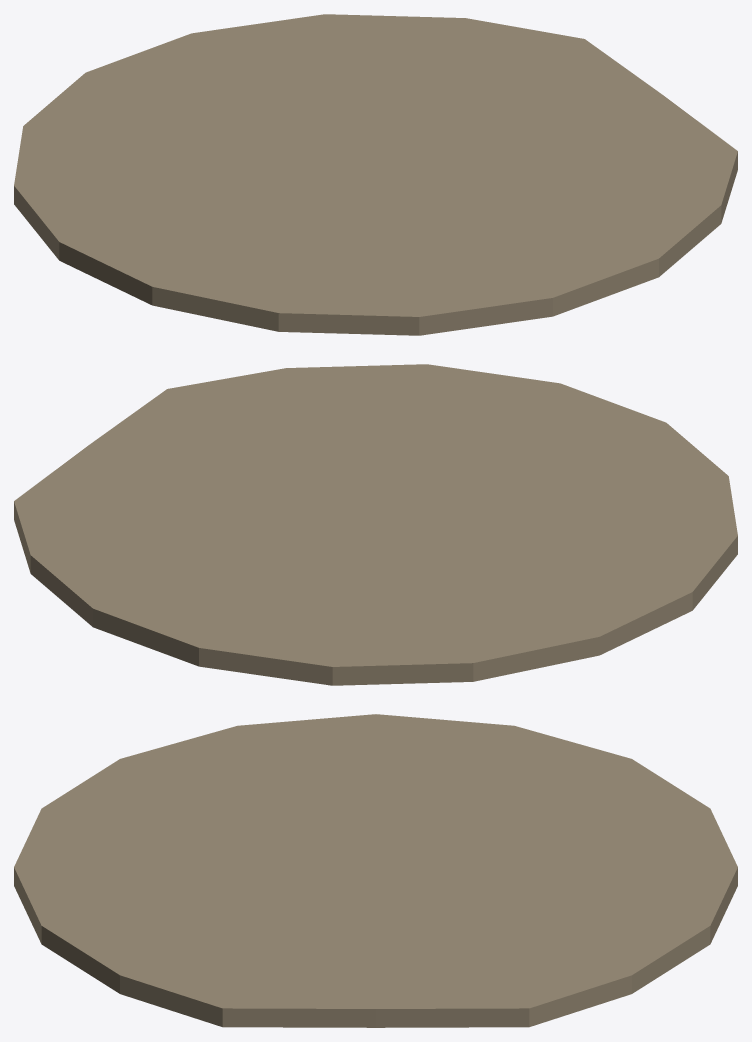
File: Temple04.fbx
3 renders of one model, top to bottom at view 1: azimuth 30°, elevation 25°; view 2: azimuth 150°, elevation 25°; view 3: azimuth 270°, elevation 25°, orthographic.
Parts seen in each view (by area): view 1: floor.002; view 2: floor.002; view 3: floor.002.
Boxes of the visible parts, <box> form: floor.002: <box>14,14,737,335</box>; floor.002: <box>14,364,737,685</box>; floor.002: <box>14,714,737,1027</box>.
Bounding box in the file's own units: 33.96 × 1.01 × 35.23.
